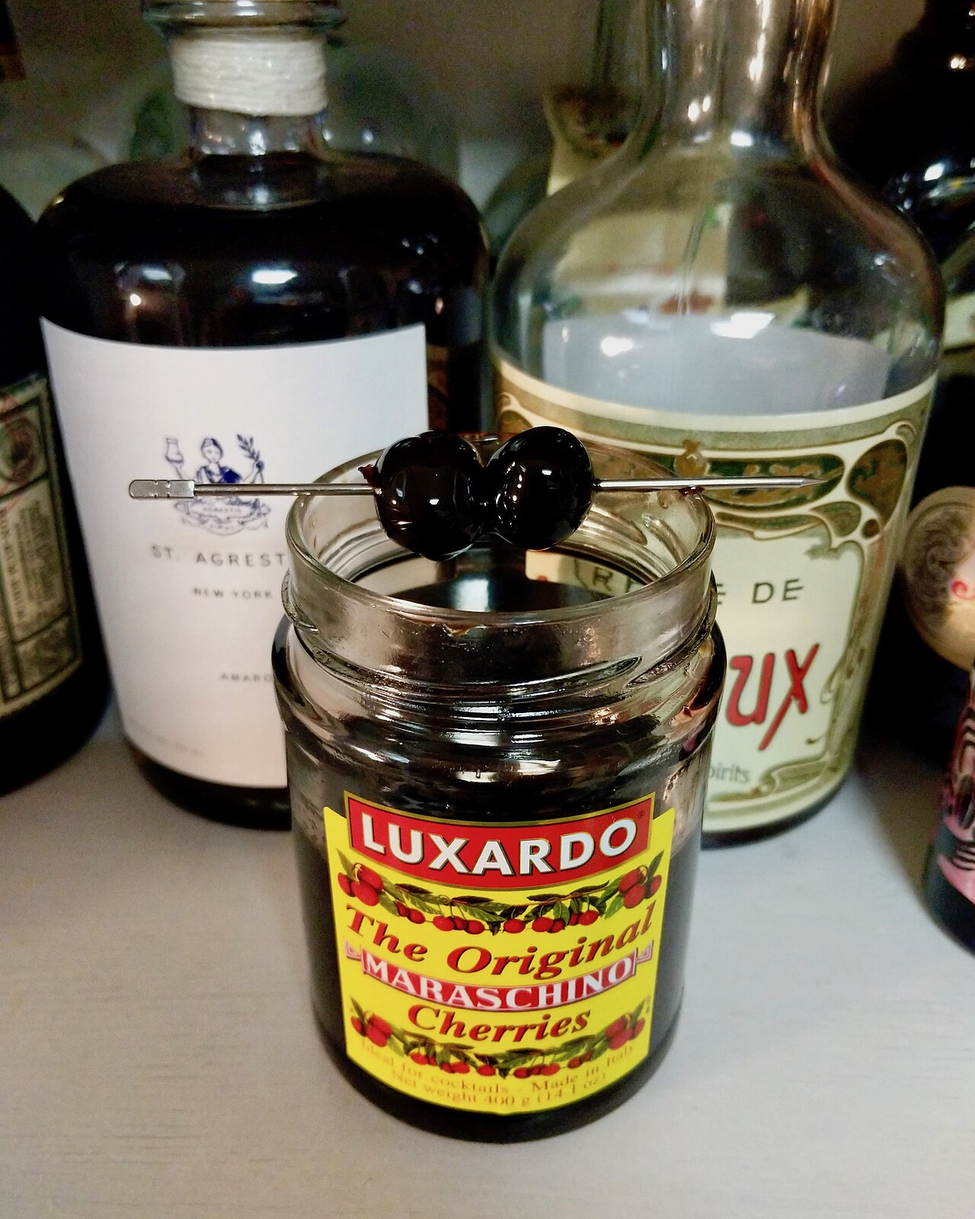unknown_bottle: (490, 1, 945, 848), (30, 2, 489, 831), (831, 1, 975, 714), (1, 183, 114, 796)
